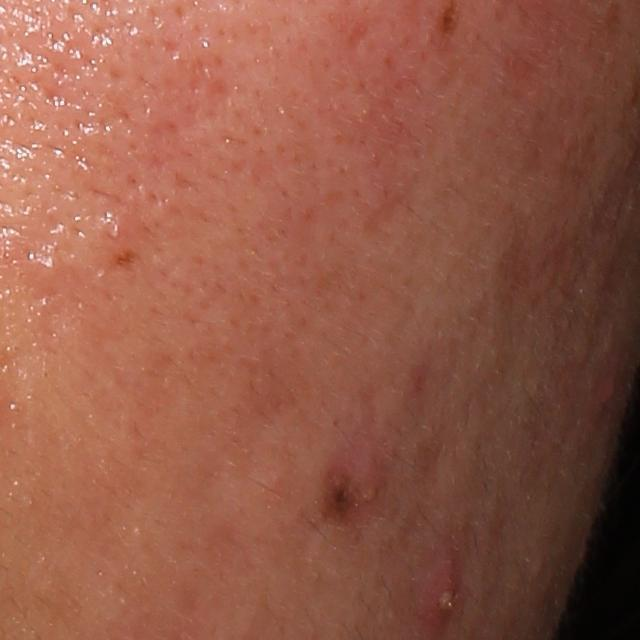atrophic_scar: (347, 20, 370, 51)
papule: (593, 358, 627, 420)
